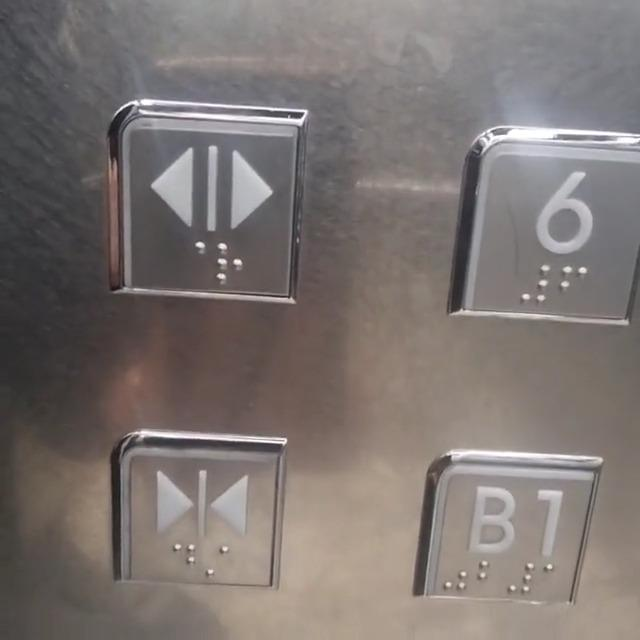button: (103, 418, 296, 593), (127, 102, 312, 282), (462, 137, 640, 319), (430, 458, 604, 591)
